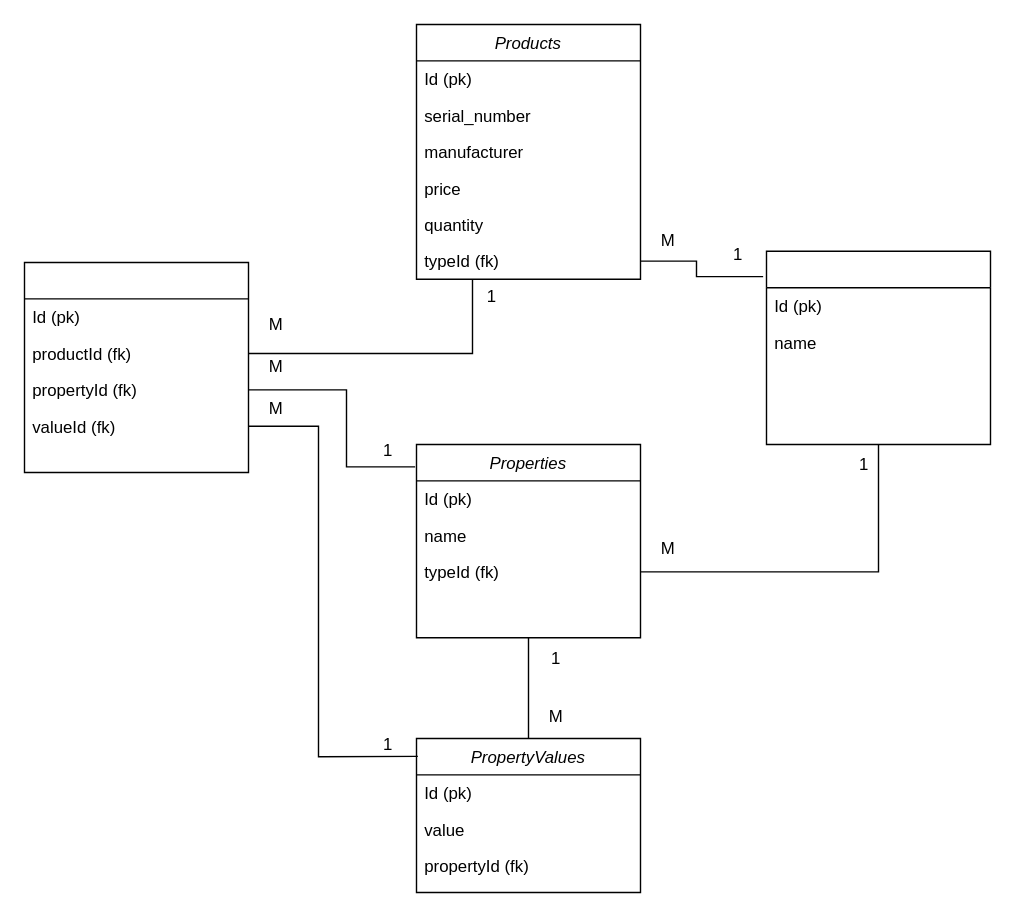
This 1015x917 diagram has some shape labels left out. The shapes that lost their labels are listed below. From the top down, each one's box as (x1, y1, x2, y2) in pixels, then its label:
(23, 261, 248, 472): PropertySets
(765, 250, 990, 444): Types
